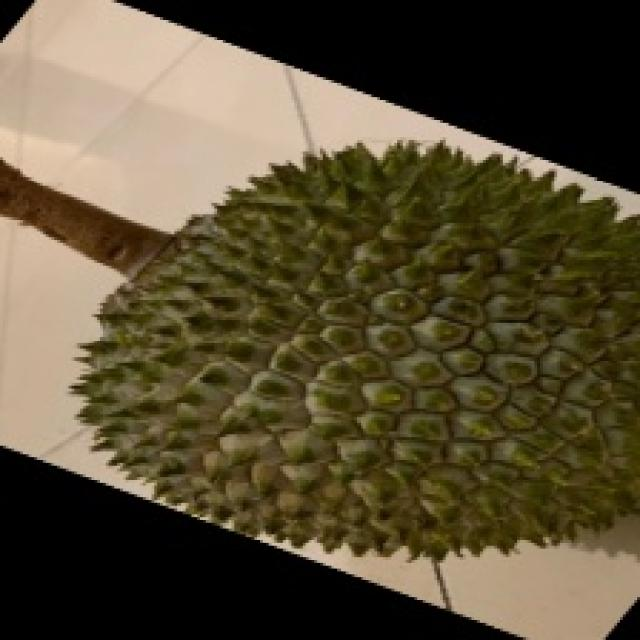d175: (48, 121, 640, 564)
